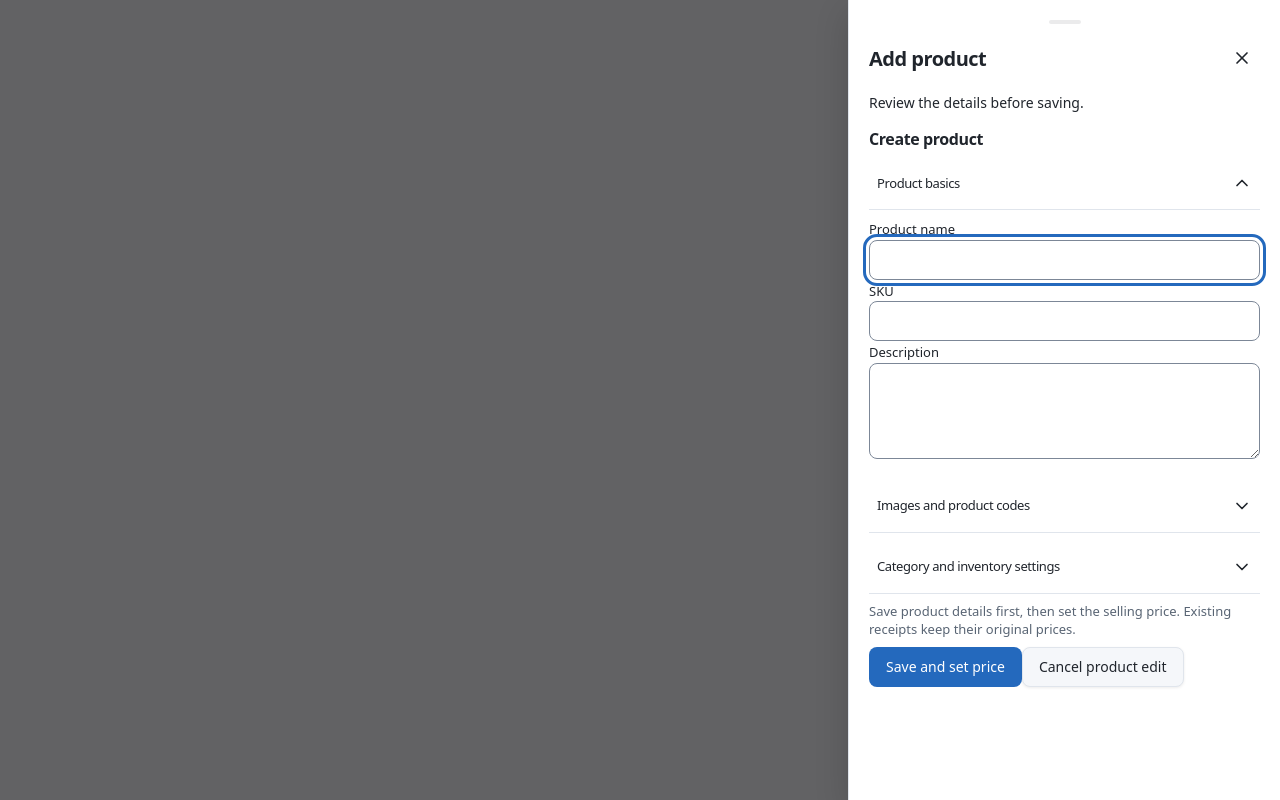
Test: retains product fields after a failed save and never advances to pricing
Step 1. Type "New mug" into the field labelled "Product name" → (1064, 260), box [869,240,1260,280]
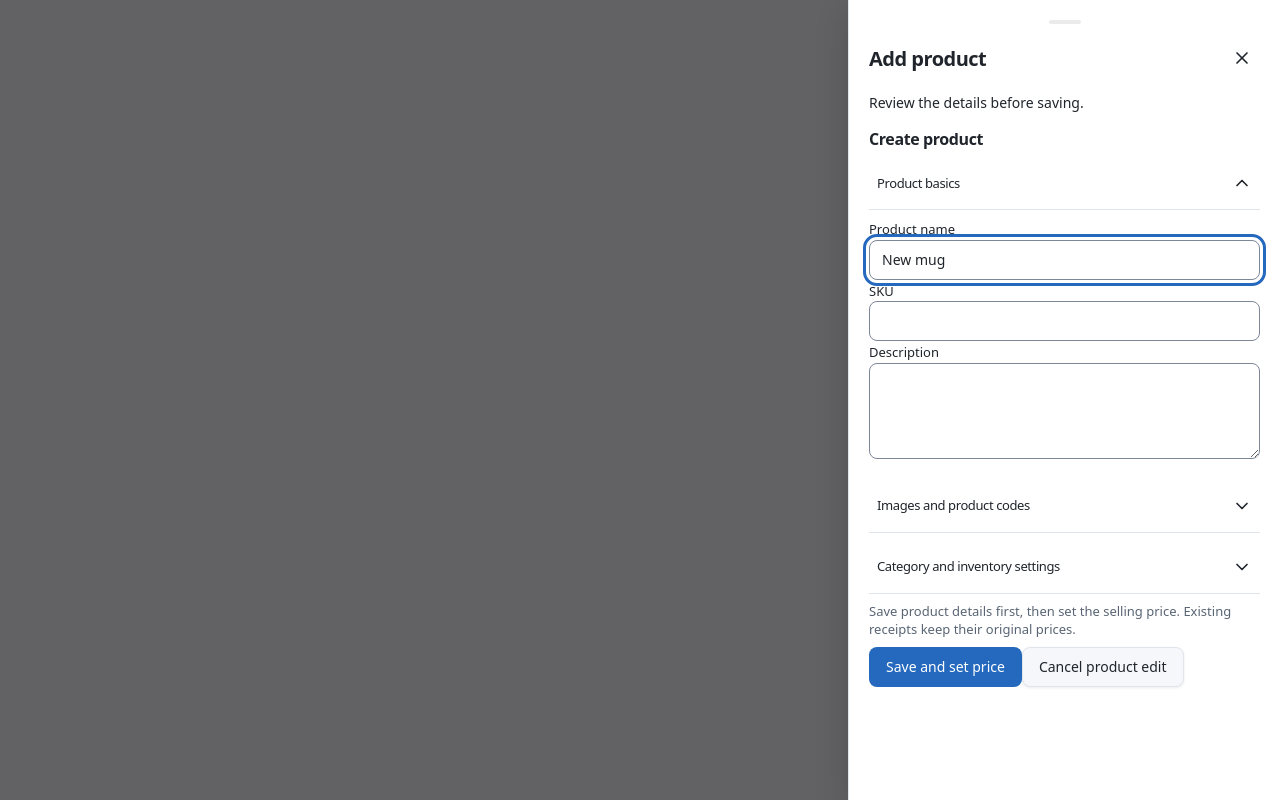
Step 2. Type "NEW-MUG" into the field labelled "SKU" → (1064, 321), box [869,301,1260,341]
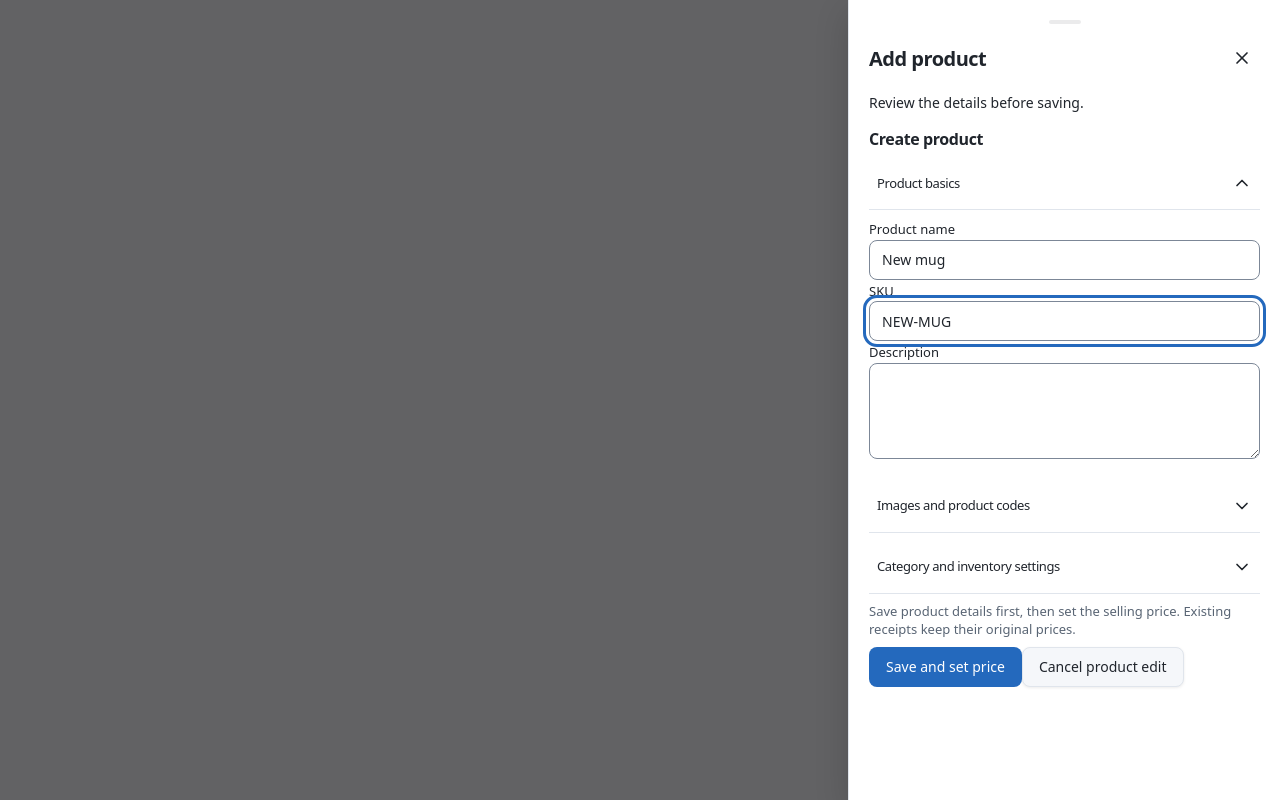
Step 3. Click the button "Save and set price" → (945, 667), box [869,647,1022,687]
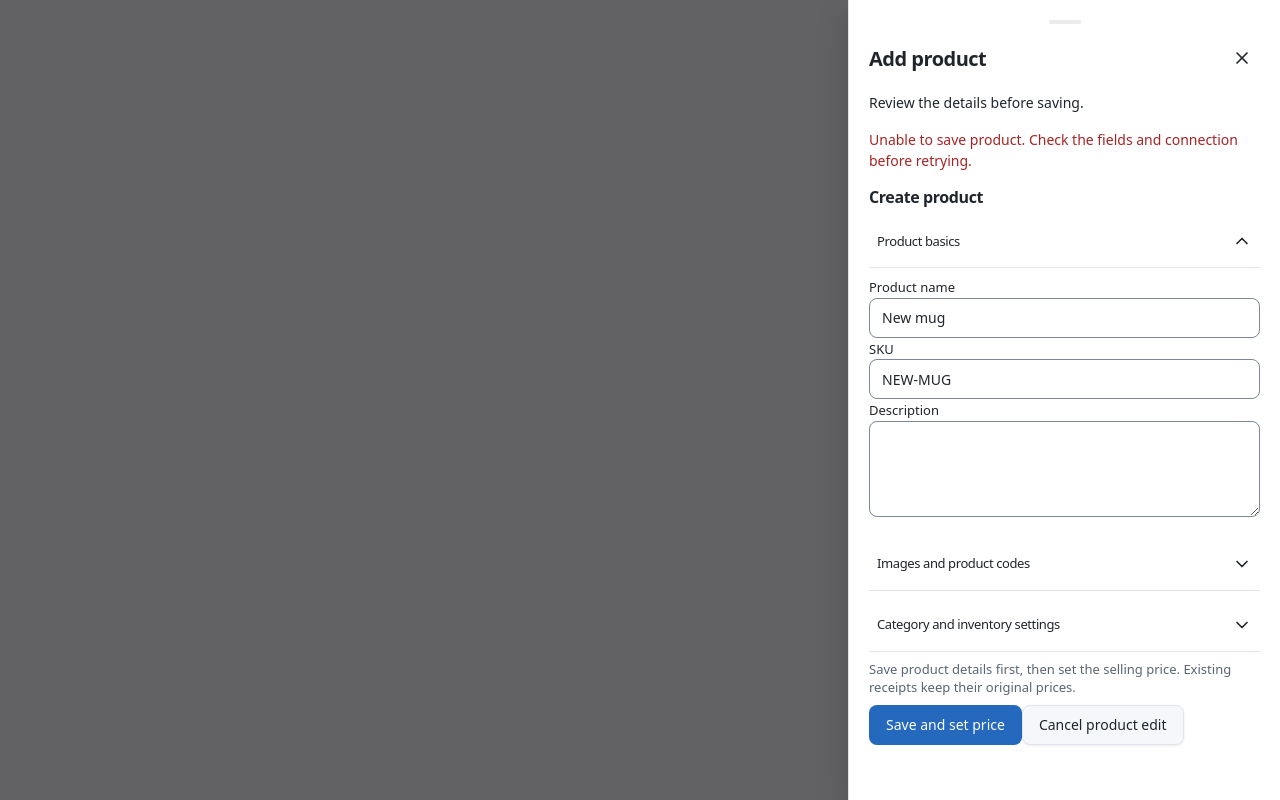
Expected: the message "Unable to save product. Check the fields and connection before retrying." is shown, [869,129,1260,171]
